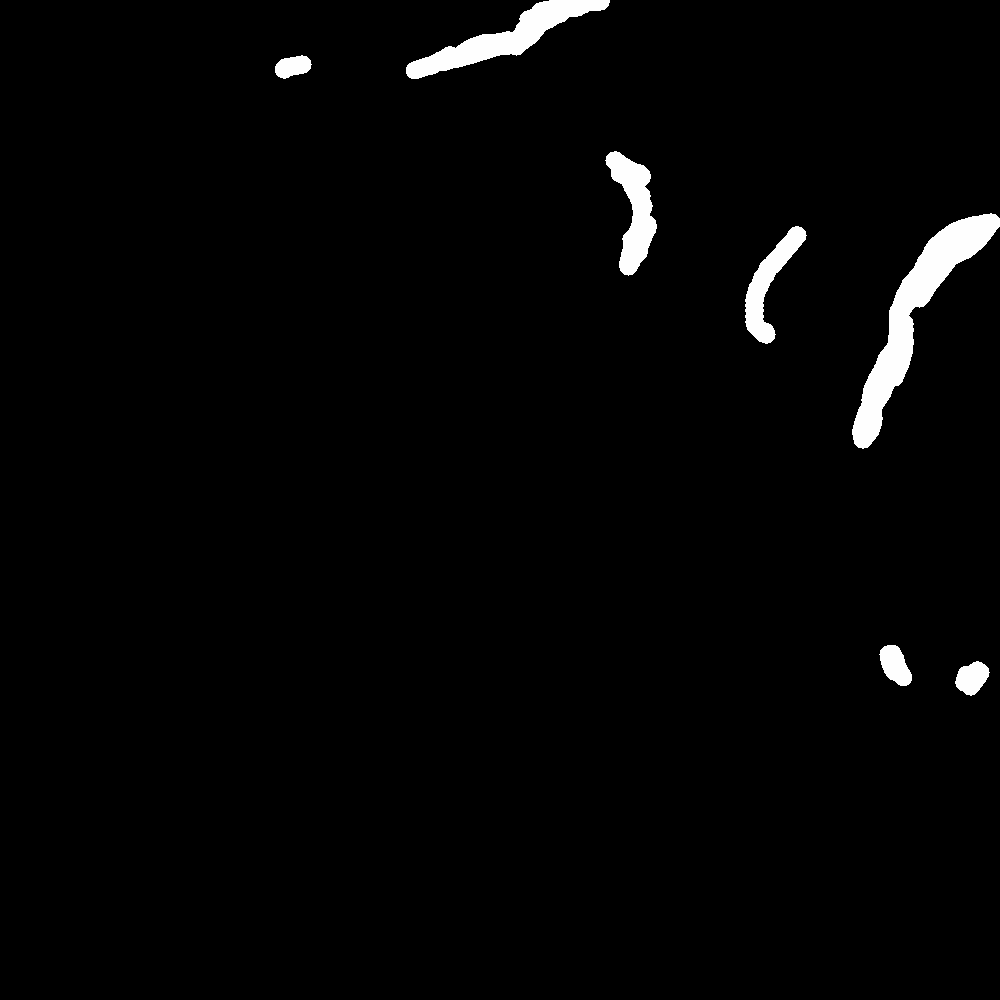illegal: (852, 208, 997, 453), (416, 1, 612, 71), (748, 209, 814, 329), (601, 148, 660, 278), (877, 640, 917, 688)
